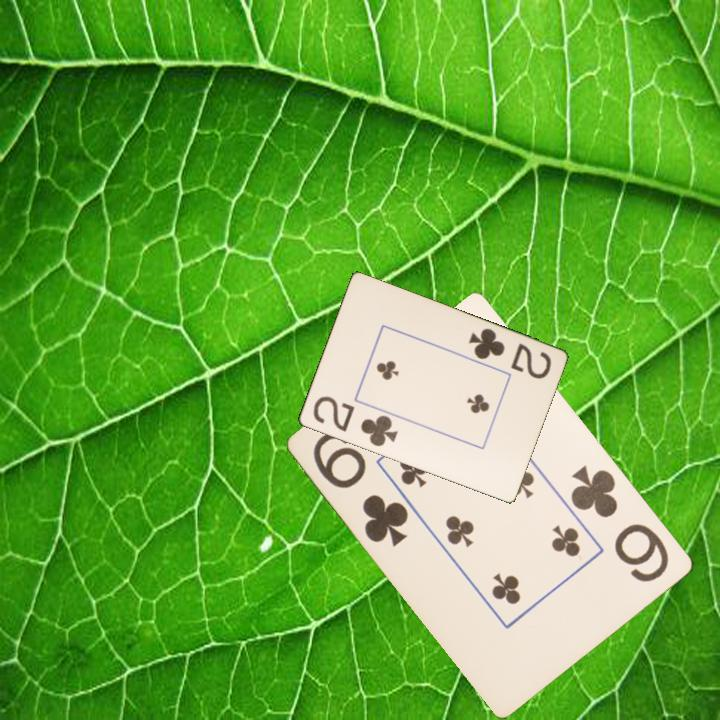2c: (309, 393, 400, 450), (465, 325, 554, 382)
6c: (567, 461, 673, 586), (309, 426, 413, 550)
